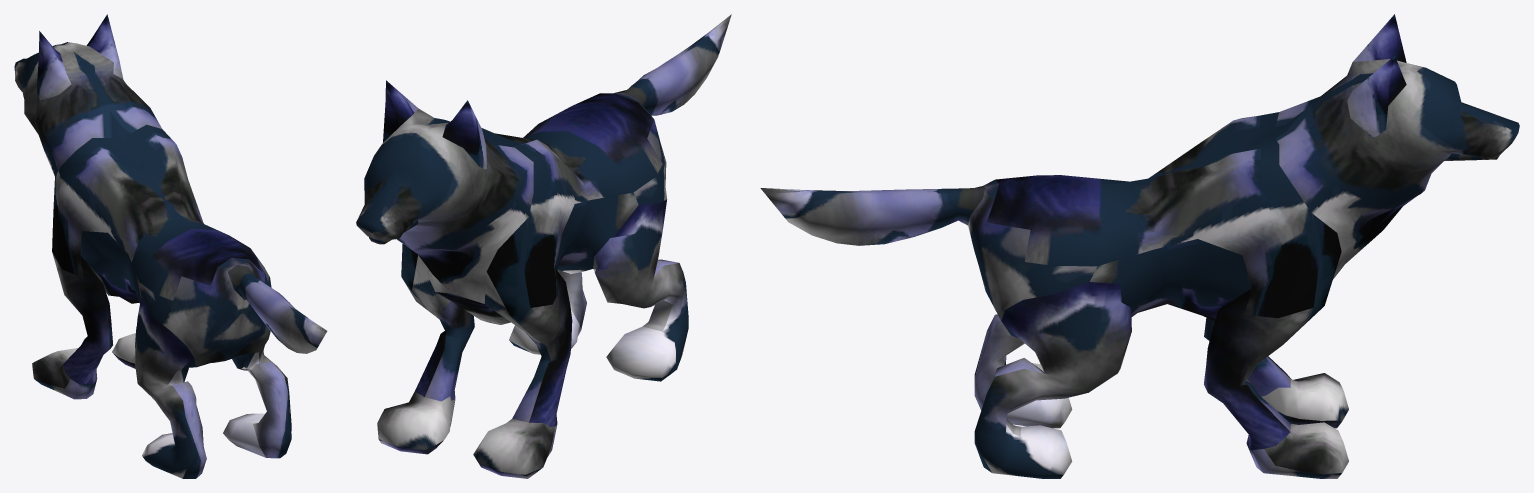
File: STORMWOLF_BINDPOSE.obj
The picture shows the model from 3 angles, left to right: view 1: azimuth 30°, elevation 25°; view 2: azimuth 150°, elevation 25°; view 3: azimuth 270°, elevation 25°; orthographic projection. The views are drawn at different scales.
Visible parts, largest first — view 1: wolfSphere01; view 2: wolfSphere01; view 3: wolfSphere01.
Boxes of the visible parts, x1,y1,x2,y2 form: wolfSphere01: (14,14,327,478); wolfSphere01: (356,14,731,478); wolfSphere01: (760,14,1519,478).
Bounding box in the file's own units: 41.81 × 95.35 × 161.
